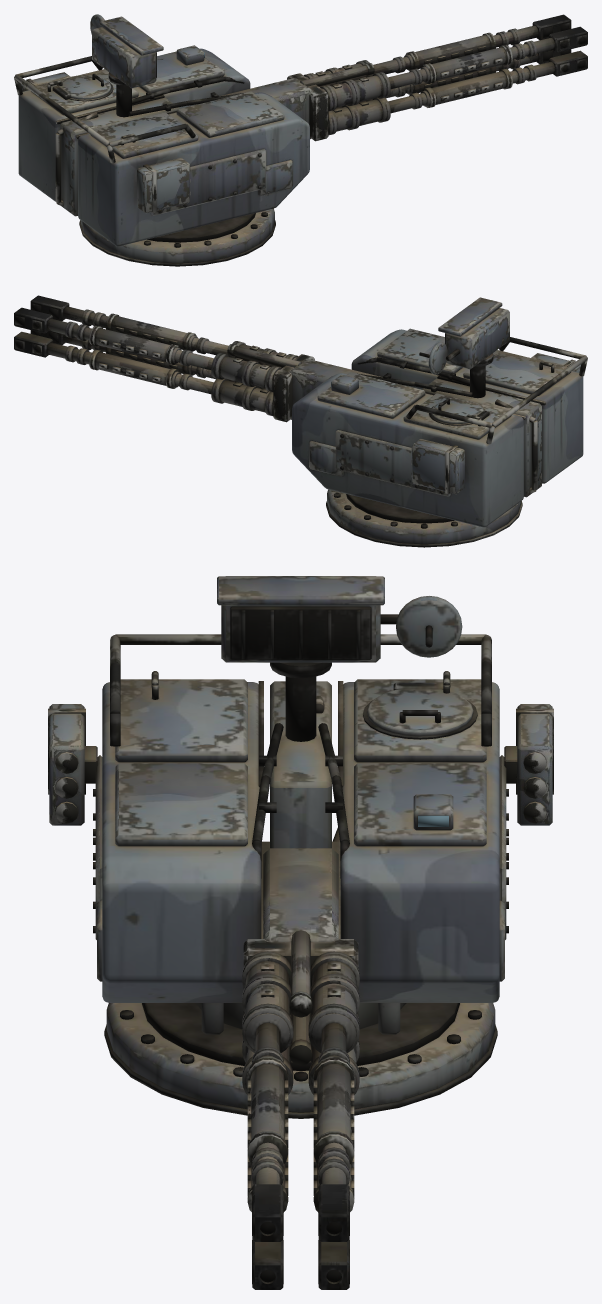
The model's file is turret_kit_quad_sea_fog.glb.
The picture shows the model from 3 angles, top to bottom: view 1: azimuth 30°, elevation 25°; view 2: azimuth 150°, elevation 25°; view 3: azimuth 270°, elevation 25°; orthographic projection. The views are drawn at different scales.
Parts seen in each view (by area): view 1: turret_twin_quad, guns, pods; view 2: turret_twin_quad, guns, pods; view 3: turret_twin_quad, guns, pods.
Part boxes in pixels (<box>): turret_twin_quad: <box>14,14,309,266</box>; guns: <box>220,14,587,141</box>; pods: <box>20,72,190,213</box>; turret_twin_quad: <box>292,297,587,547</box>; guns: <box>14,295,382,422</box>; pods: <box>411,353,581,494</box>; turret_twin_quad: <box>93,576,508,1118</box>; guns: <box>242,848,359,1289</box>; pods: <box>48,704,553,825</box>.
Size of the model in its own units: 2.7 by 1.01 by 1.15.
Materials: 4 (3 with a texture image).
